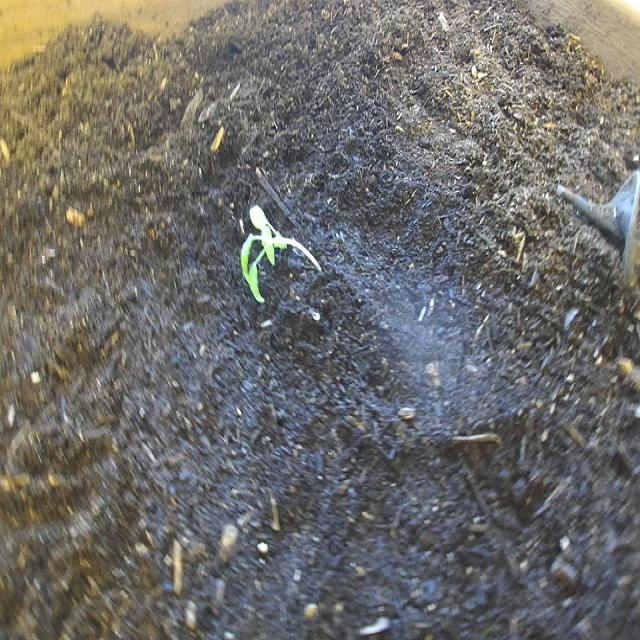Healthy: (238, 201, 326, 309)
